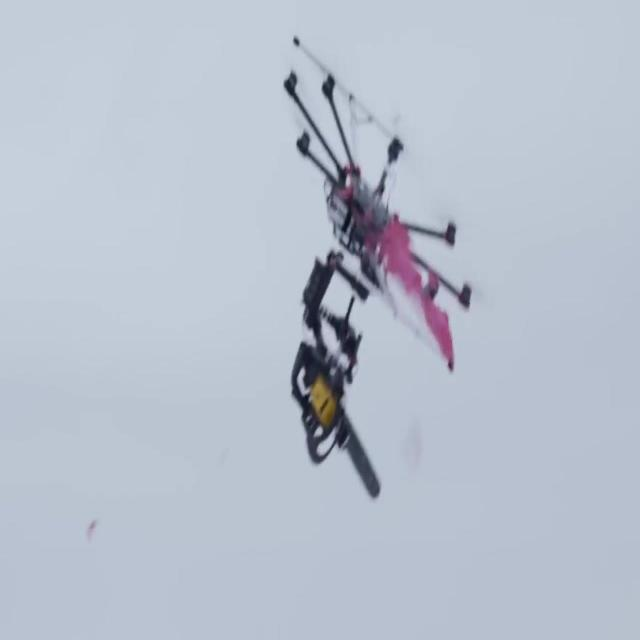UAV: (284, 35, 472, 372)
